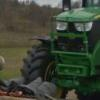Tractor: (18, 7, 100, 100)
